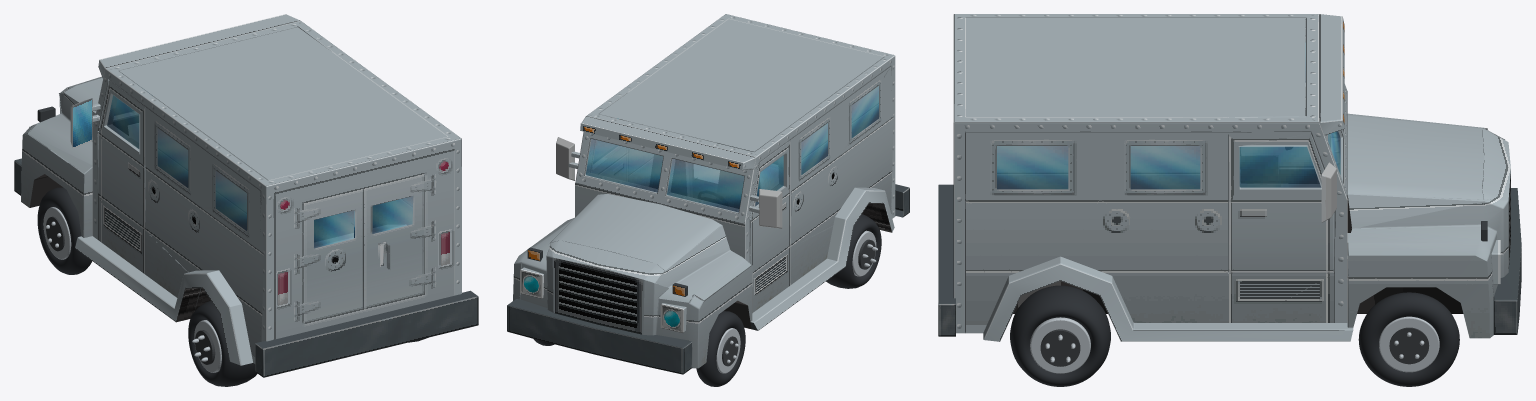
Rendered from car-carmor.glb.
3 renders of one model, left to right at view 1: azimuth 30°, elevation 25°; view 2: azimuth 150°, elevation 25°; view 3: azimuth 270°, elevation 25°, orthographic. The views are drawn at different scales.
Parts seen in each view (by area): view 1: cArmorShape.001, cArmorShape.007, cArmorShape.002, cArmorShape.005, cArmorShape.006, DoorDRotShape.015, cArmorShape.003, Rounded tire.021, Rounded tire.022, cArmorShape.004, cArmorShape, DoorDRotShape.016 (+4 smaller); view 2: cArmorShape.002, cArmorShape.007, cArmorShape.005, cArmorShape.004, cArmorShape.006, cArmorShape.001, DoorDRotShape.015, cArmorShape.003, Rounded tire.022, Rounded tire.021, DoorPRotShape.016, cArmorShape (+5 smaller); view 3: cArmorShape.003, cArmorShape.002, cArmorShape.007, cArmorShape.005, DoorPRotShape.016, cArmorShape.006, Rounded tire.020, Rounded tire.023, cArmorShape.001, DoorPRotShape.017, cArmorShape.004, Alloy rim.020 (+5 smaller).
Boxes of the visible parts, x1,y1,x2,y2 form: cArmorShape.001: (14, 78, 478, 377); cArmorShape.007: (119, 27, 446, 180); cArmorShape.002: (21, 76, 263, 363); cArmorShape.005: (29, 14, 461, 365); cArmorShape.006: (115, 84, 413, 248); DoorDRotShape.015: (97, 79, 145, 229); cArmorShape.003: (158, 129, 412, 230); Rounded tire.021: (188, 301, 257, 386); Rounded tire.022: (37, 187, 91, 274); cArmorShape.004: (37, 106, 385, 241); cArmorShape: (29, 168, 353, 322); DoorDRotShape.016: (107, 95, 139, 148); cArmorShape.002: (513, 66, 893, 368); cArmorShape.007: (599, 19, 883, 151); cArmorShape.005: (520, 14, 895, 332); cArmorShape.004: (527, 123, 777, 334); cArmorShape.006: (586, 86, 878, 212); cArmorShape.001: (507, 71, 909, 374); DoorDRotShape.015: (749, 140, 791, 274); cArmorShape.003: (519, 78, 883, 296); Rounded tire.022: (696, 311, 745, 386); Rounded tire.021: (826, 214, 881, 288); DoorPRotShape.016: (590, 116, 628, 181); cArmorShape: (692, 178, 891, 328); cArmorShape.003: (966, 146, 1489, 338); cArmorShape.002: (966, 113, 1510, 337); cArmorShape.007: (966, 18, 1305, 116); cArmorShape.005: (953, 14, 1500, 341); DoorPRotShape.016: (1228, 132, 1334, 273); cArmorShape.006: (997, 131, 1340, 189); Rounded tire.020: (1010, 285, 1110, 386); Rounded tire.023: (1358, 292, 1459, 386); cArmorShape.001: (938, 135, 1521, 336); DoorPRotShape.017: (1239, 146, 1320, 187); cArmorShape.004: (1240, 17, 1510, 268); Alloy rim.020: (1030, 317, 1090, 373).
Size of the model in its own units: 3.34 by 2.88 by 5.75.
Materials: 11 (8 with a texture image).
